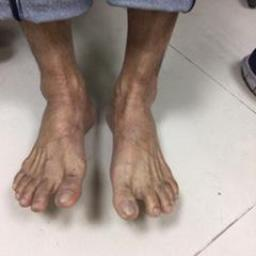Front View -Both Feet-: (10, 52, 186, 230)
